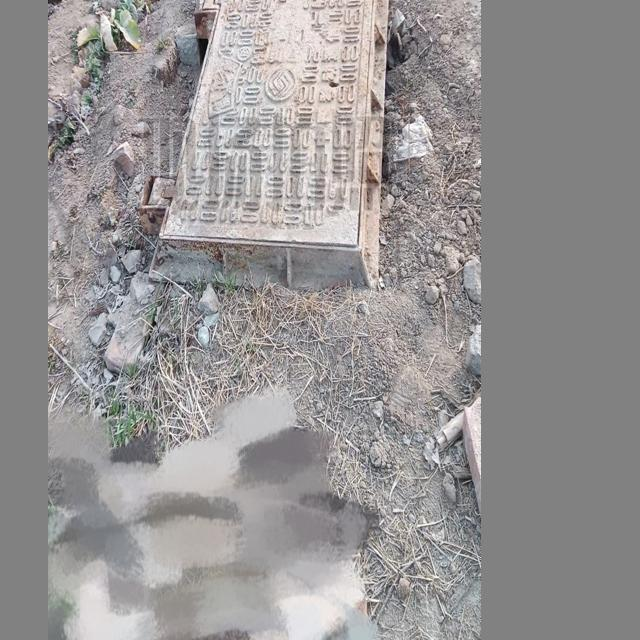circle: (139, 0, 397, 297)
